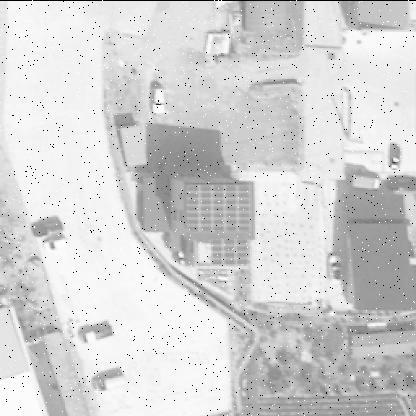solar-pv-panel: (185, 183, 252, 229), (211, 238, 249, 265)
